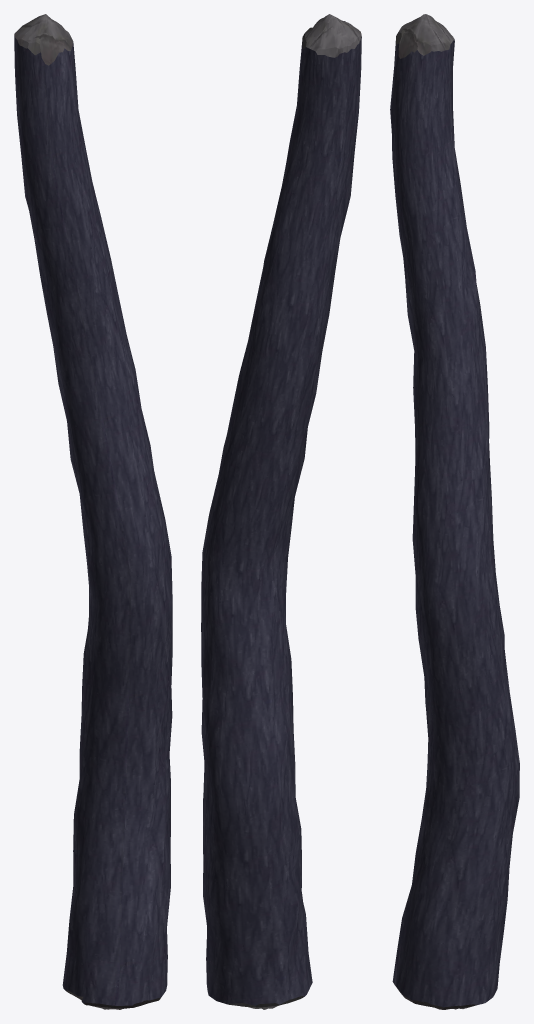
The picture shows the model from 3 angles, left to right: view 1: azimuth 30°, elevation 25°; view 2: azimuth 210°, elevation 25°; view 3: azimuth 330°, elevation 25°; orthographic projection. The views are drawn at different scales.
Parts seen in each view (by area): view 1: SM_Willow_03_tree_quarters_top_LOD0; view 2: SM_Willow_03_tree_quarters_top_LOD0; view 3: SM_Willow_03_tree_quarters_top_LOD0.
Boxes of the visible parts, bbox=[...] form: SM_Willow_03_tree_quarters_top_LOD0: bbox=[14, 14, 172, 1009]; SM_Willow_03_tree_quarters_top_LOD0: bbox=[201, 14, 361, 1009]; SM_Willow_03_tree_quarters_top_LOD0: bbox=[390, 14, 519, 1009].
Size of the model in its own units: 1.07 by 7.63 by 0.9251.
Materials: 1 (1 with a texture image).
